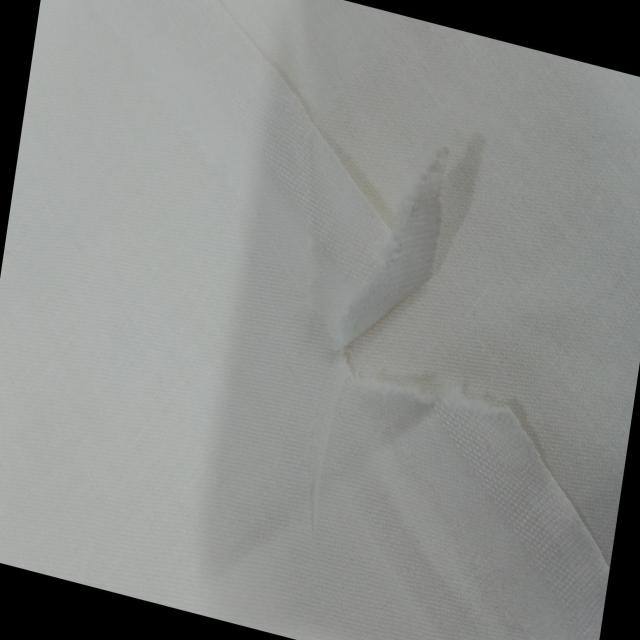cut: (324, 120, 498, 436)
